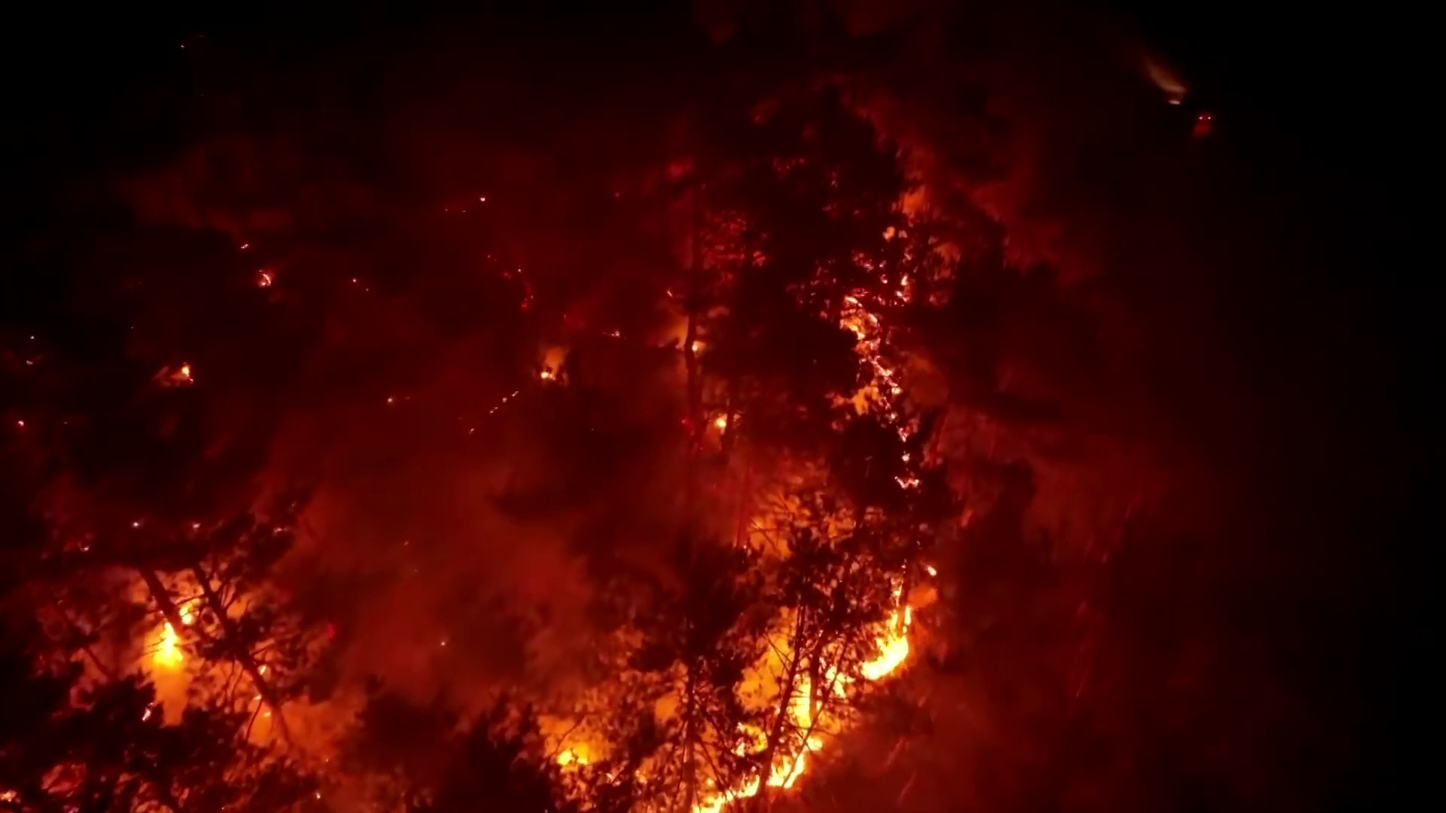forest_fire: (691, 585, 914, 812), (149, 605, 194, 671), (734, 726, 770, 755)
